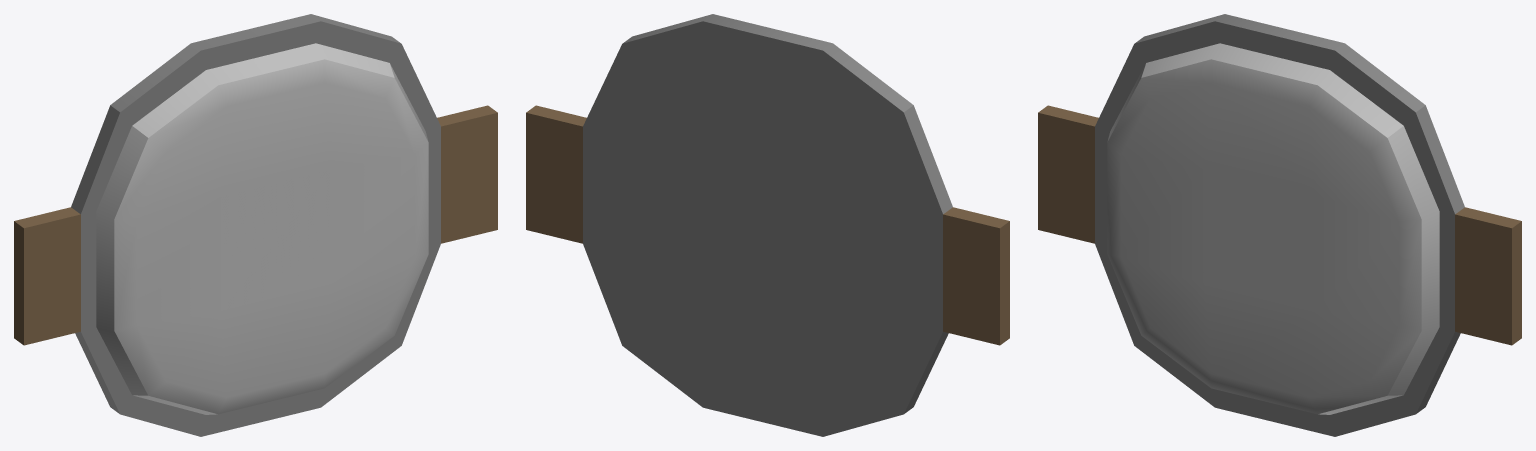
File: watch.fbx
3 renders of one model, left to right at view 1: azimuth 30°, elevation 25°; view 2: azimuth 150°, elevation 25°; view 3: azimuth 330°, elevation 25°, orthographic.
Visible parts, largest first — view 1: watch; view 2: watch; view 3: watch.
Boxes of the visible parts, x1,y1,x2,y2 form: watch: (14, 14, 497, 436); watch: (526, 14, 1009, 436); watch: (1038, 14, 1521, 436).
Bounding box in the file's own units: 2.16 × 1.68 × 0.1964.
